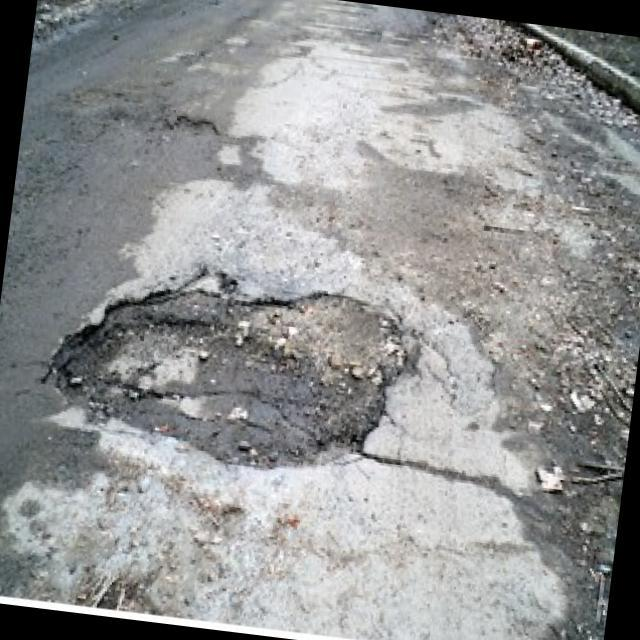Pothole: (39, 251, 414, 484), (170, 112, 218, 137)
